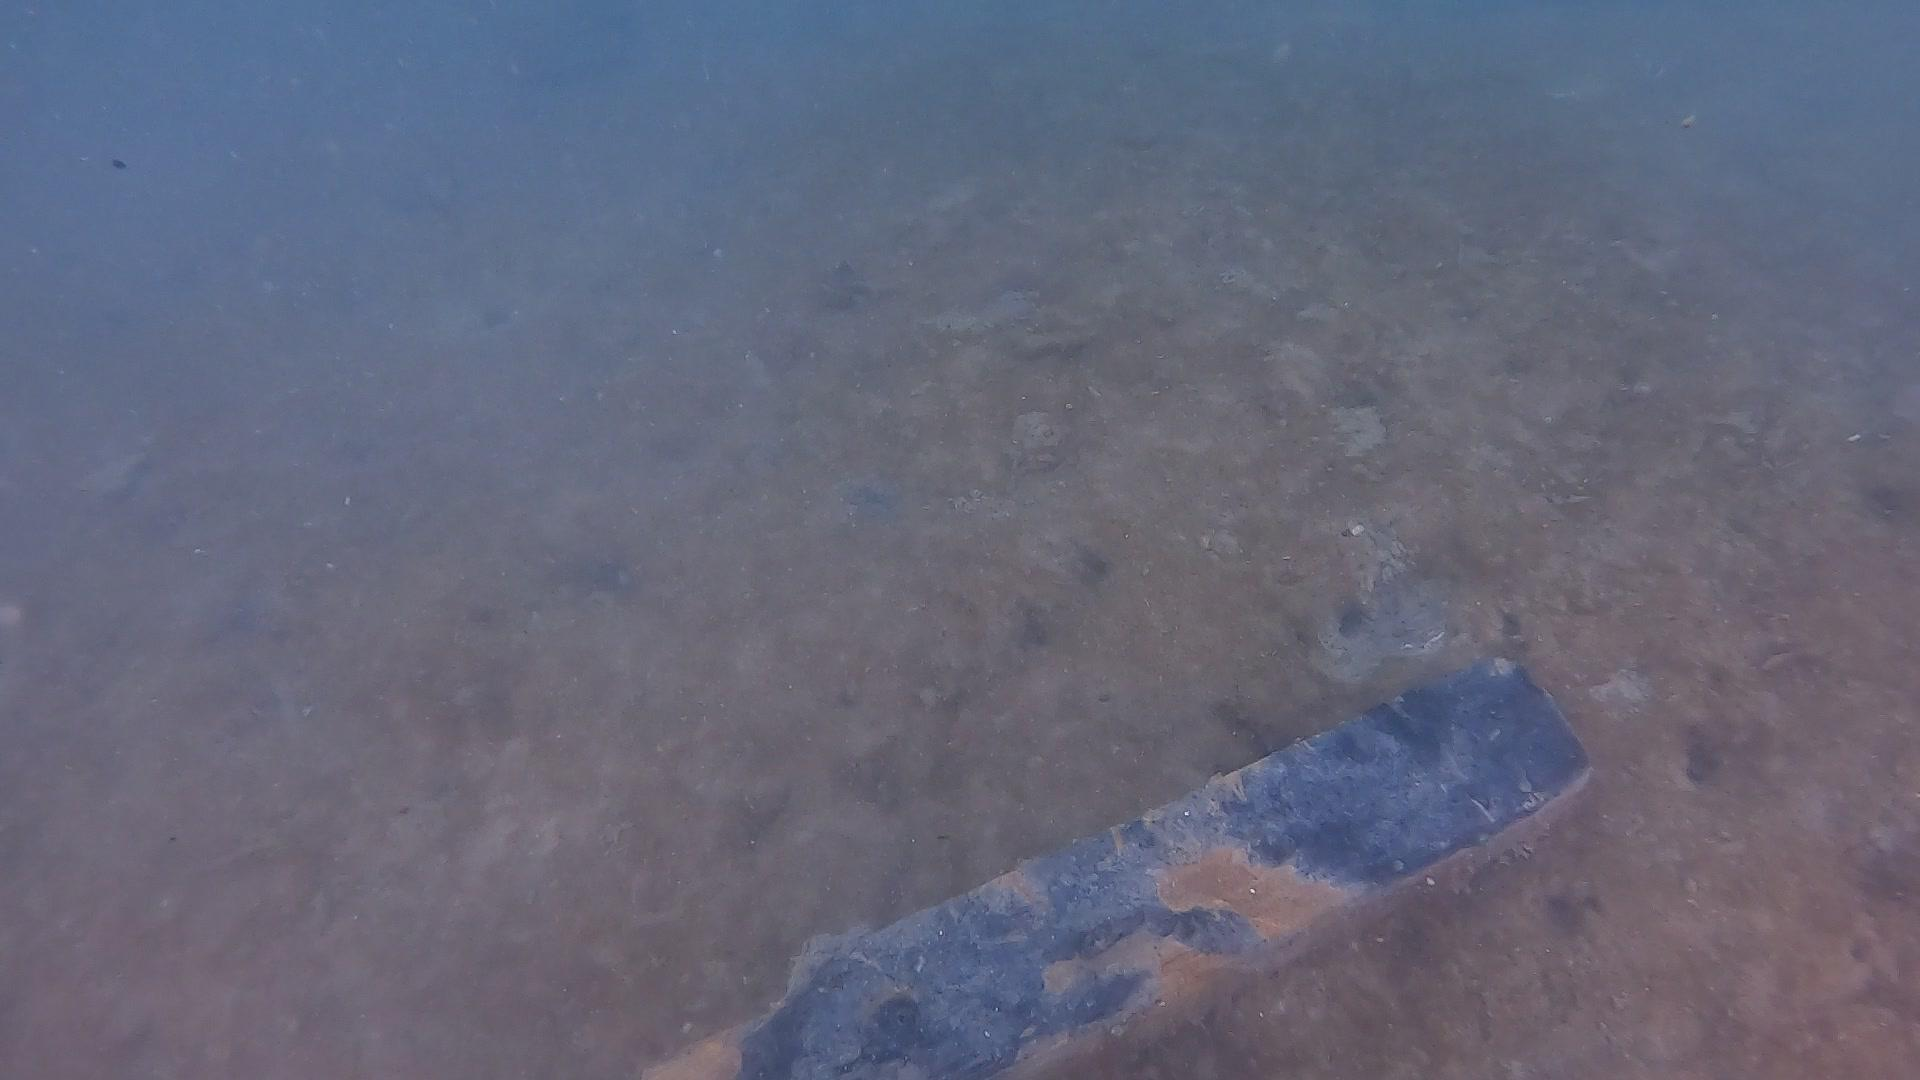wood: (640, 641, 1600, 1077)
